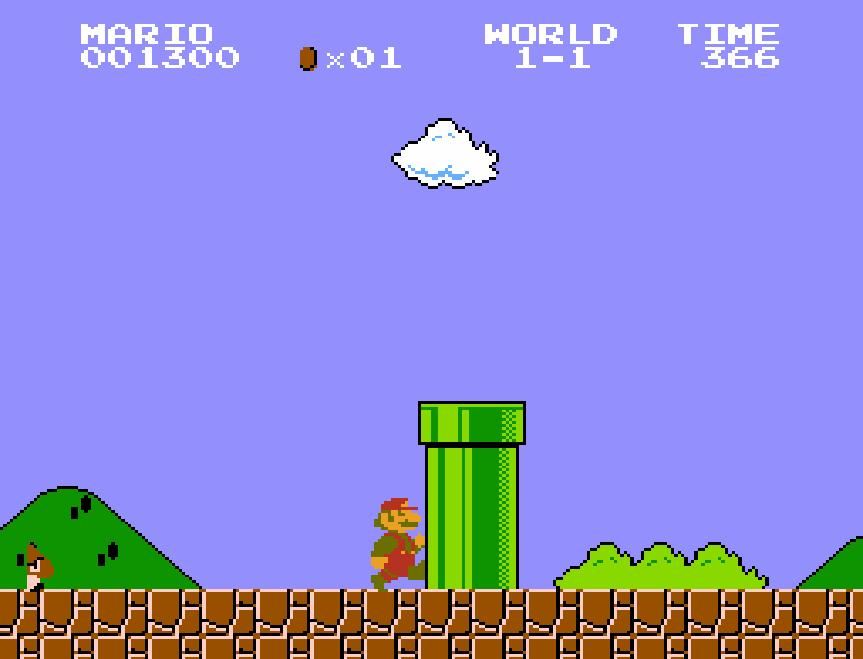big_mario: (368, 499, 426, 597)
